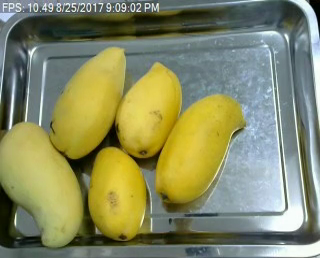Mango: (0, 121, 85, 246), (155, 93, 246, 206), (46, 45, 129, 158), (113, 61, 183, 158), (83, 145, 150, 241)
